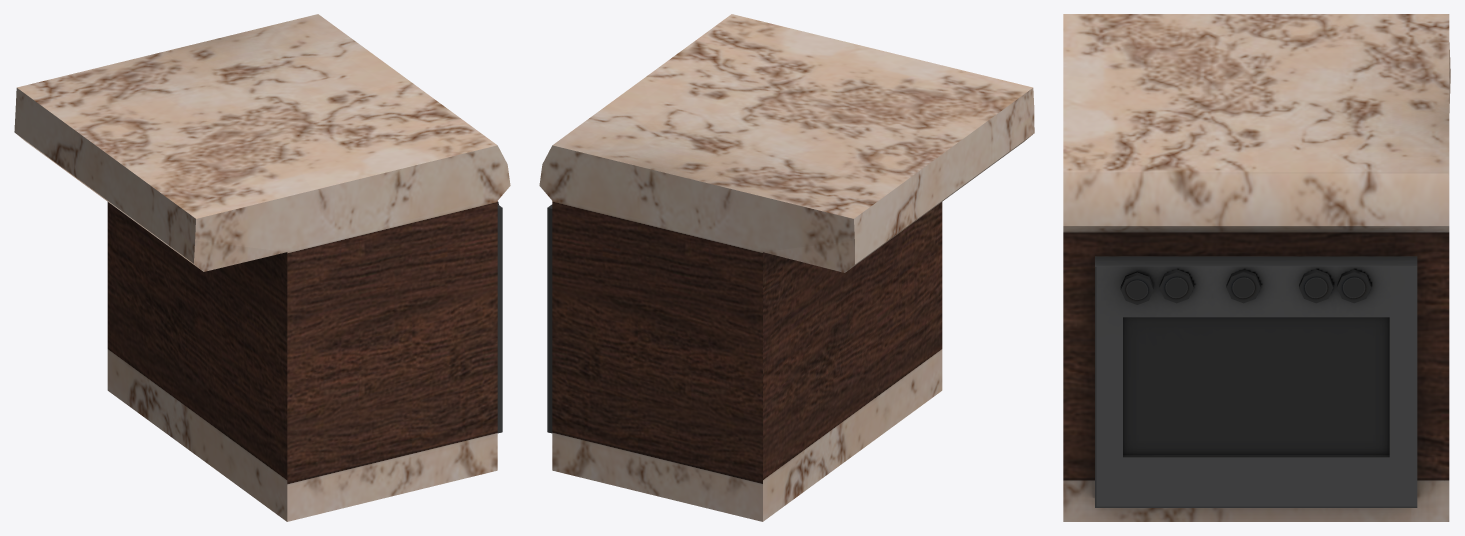
The model's file is m_kitchen_oven.fbx.
3 renders of one model, left to right at view 1: azimuth 30°, elevation 25°; view 2: azimuth 150°, elevation 25°; view 3: azimuth 270°, elevation 25°, orthographic. The views are drawn at different scales.
Parts seen in each view (by area): view 1: m_oven; view 2: m_oven; view 3: m_oven.
Part boxes in pixels (x1,y1,x2,y2): m_oven: (14, 14, 510, 521); m_oven: (539, 14, 1034, 521); m_oven: (1063, 14, 1450, 521).
Size of the model in its own units: 107 by 100 by 100.
